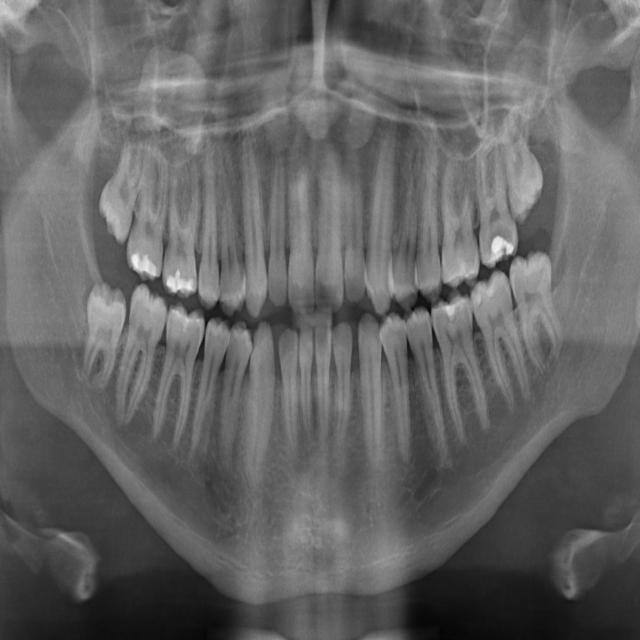CompositeResinRestoration: (130, 247, 158, 281), (166, 266, 194, 298), (441, 294, 467, 325), (487, 231, 514, 260), (474, 286, 486, 310)
DentalCaries: (492, 219, 509, 247)
ImpactedTooth: (73, 261, 128, 385), (501, 130, 547, 224)
